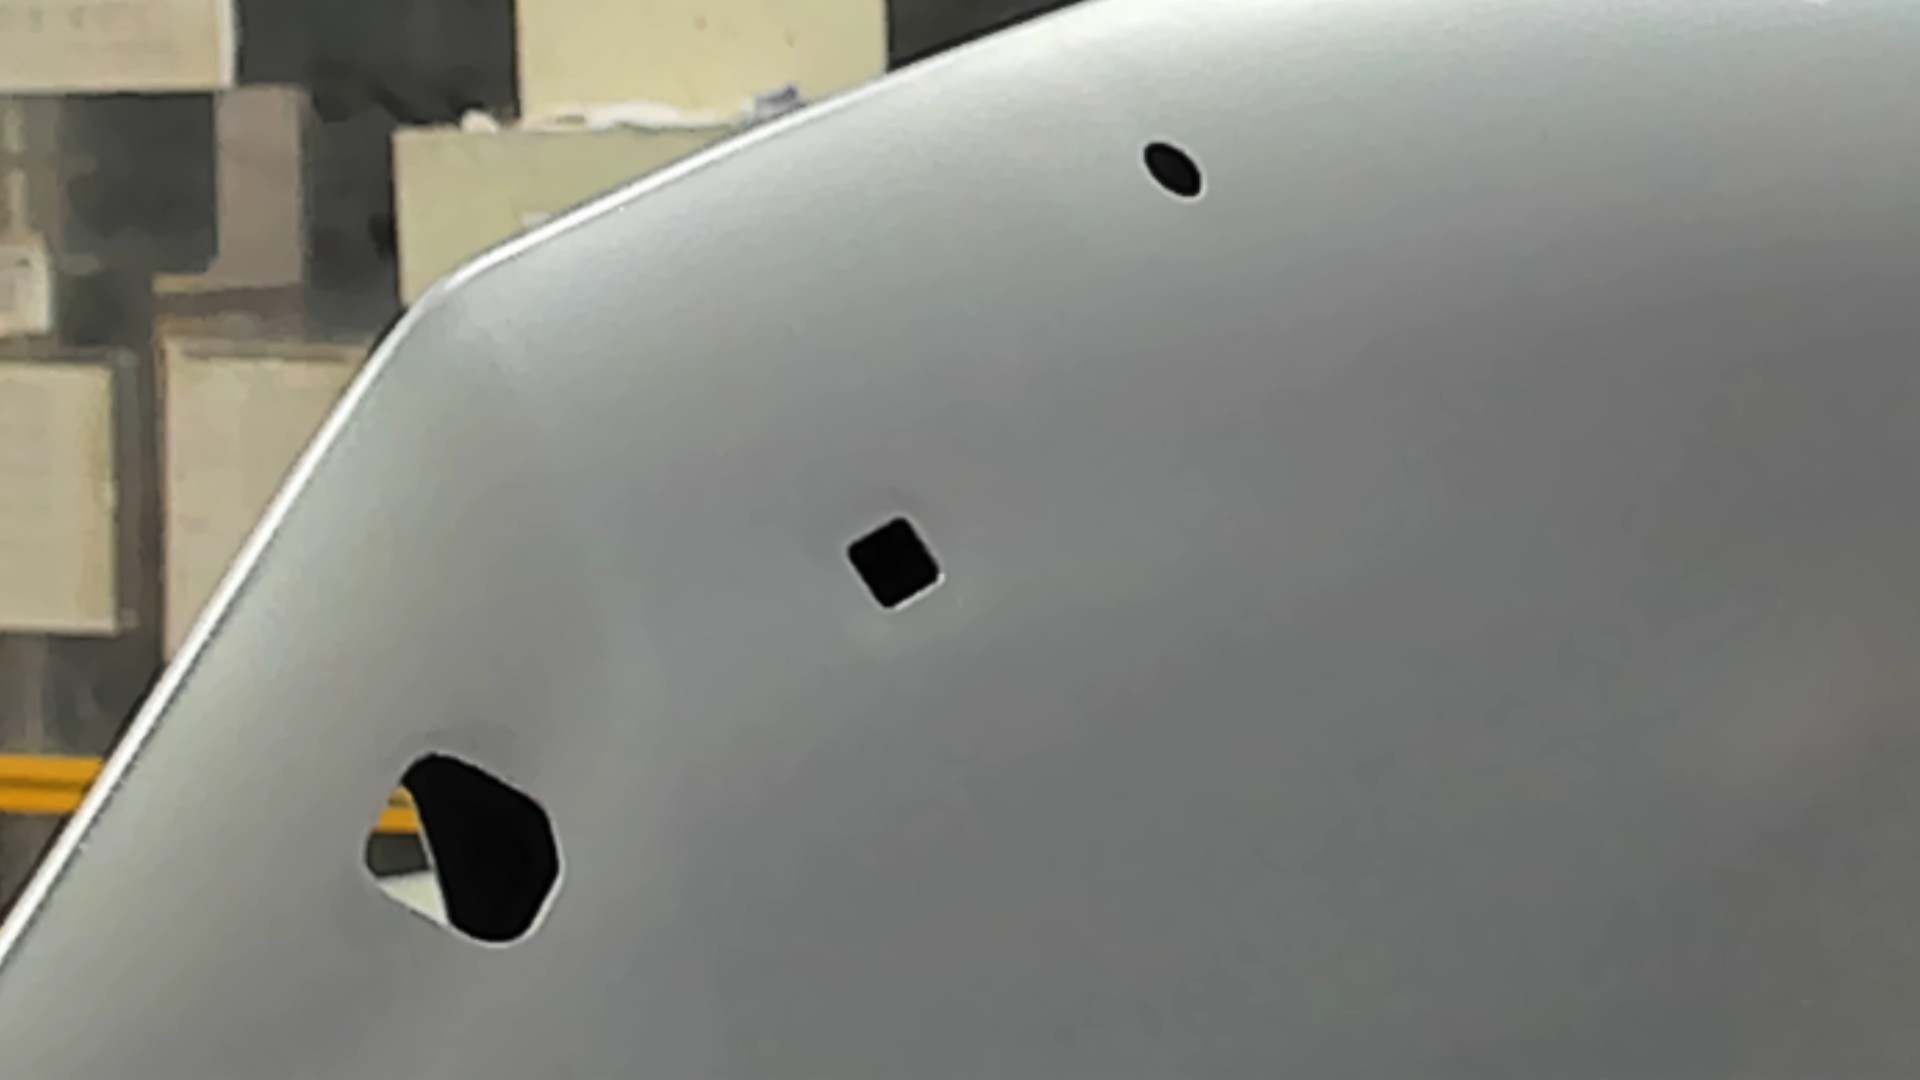chico: (1139, 138, 1207, 203)
grande: (361, 750, 568, 949)
mediano: (845, 514, 945, 613)
